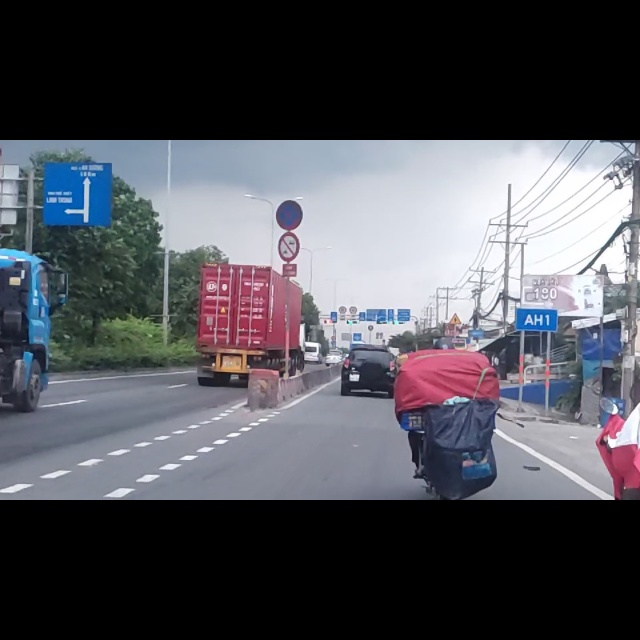bien_chi_dan: (275, 105, 303, 159), (275, 162, 301, 216)
